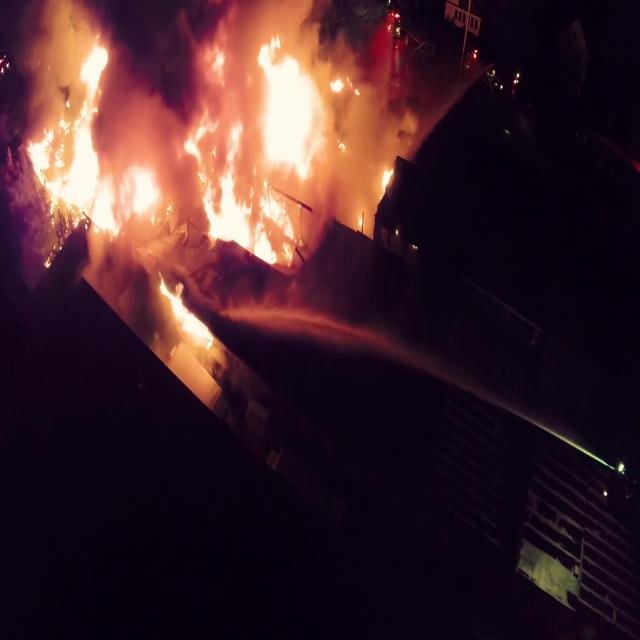fire: (259, 50, 319, 176), (57, 97, 97, 210), (210, 170, 250, 238)
smoke: (338, 101, 388, 232), (105, 88, 172, 165), (32, 19, 78, 74)
